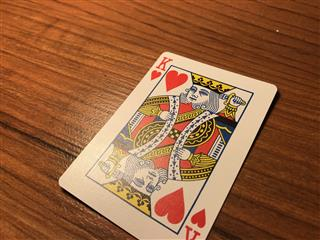KingOfHearts: (57, 50, 277, 240)
